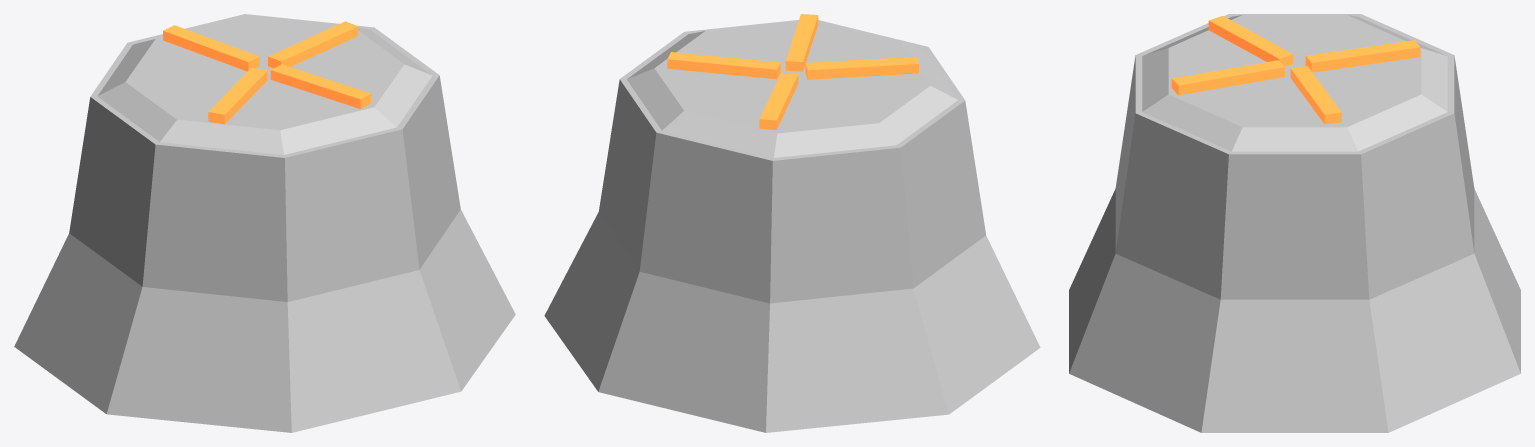
Rendered from bf_stump.glb.
3 renders of one model, left to right at view 1: azimuth 30°, elevation 25°; view 2: azimuth 150°, elevation 25°; view 3: azimuth 270°, elevation 25°, orthographic. The views are drawn at different scales.
Parts seen in each view (by area): view 1: bf_stump; view 2: bf_stump; view 3: bf_stump.
Part boxes in pixels (left/top/right/bottom): bf_stump: left=14, top=14, right=515, bottom=432; bf_stump: left=544, top=14, right=1040, bottom=432; bf_stump: left=1069, top=14, right=1520, bottom=432.
Size of the model in its own units: 0.6652 by 0.415 by 0.6282.
